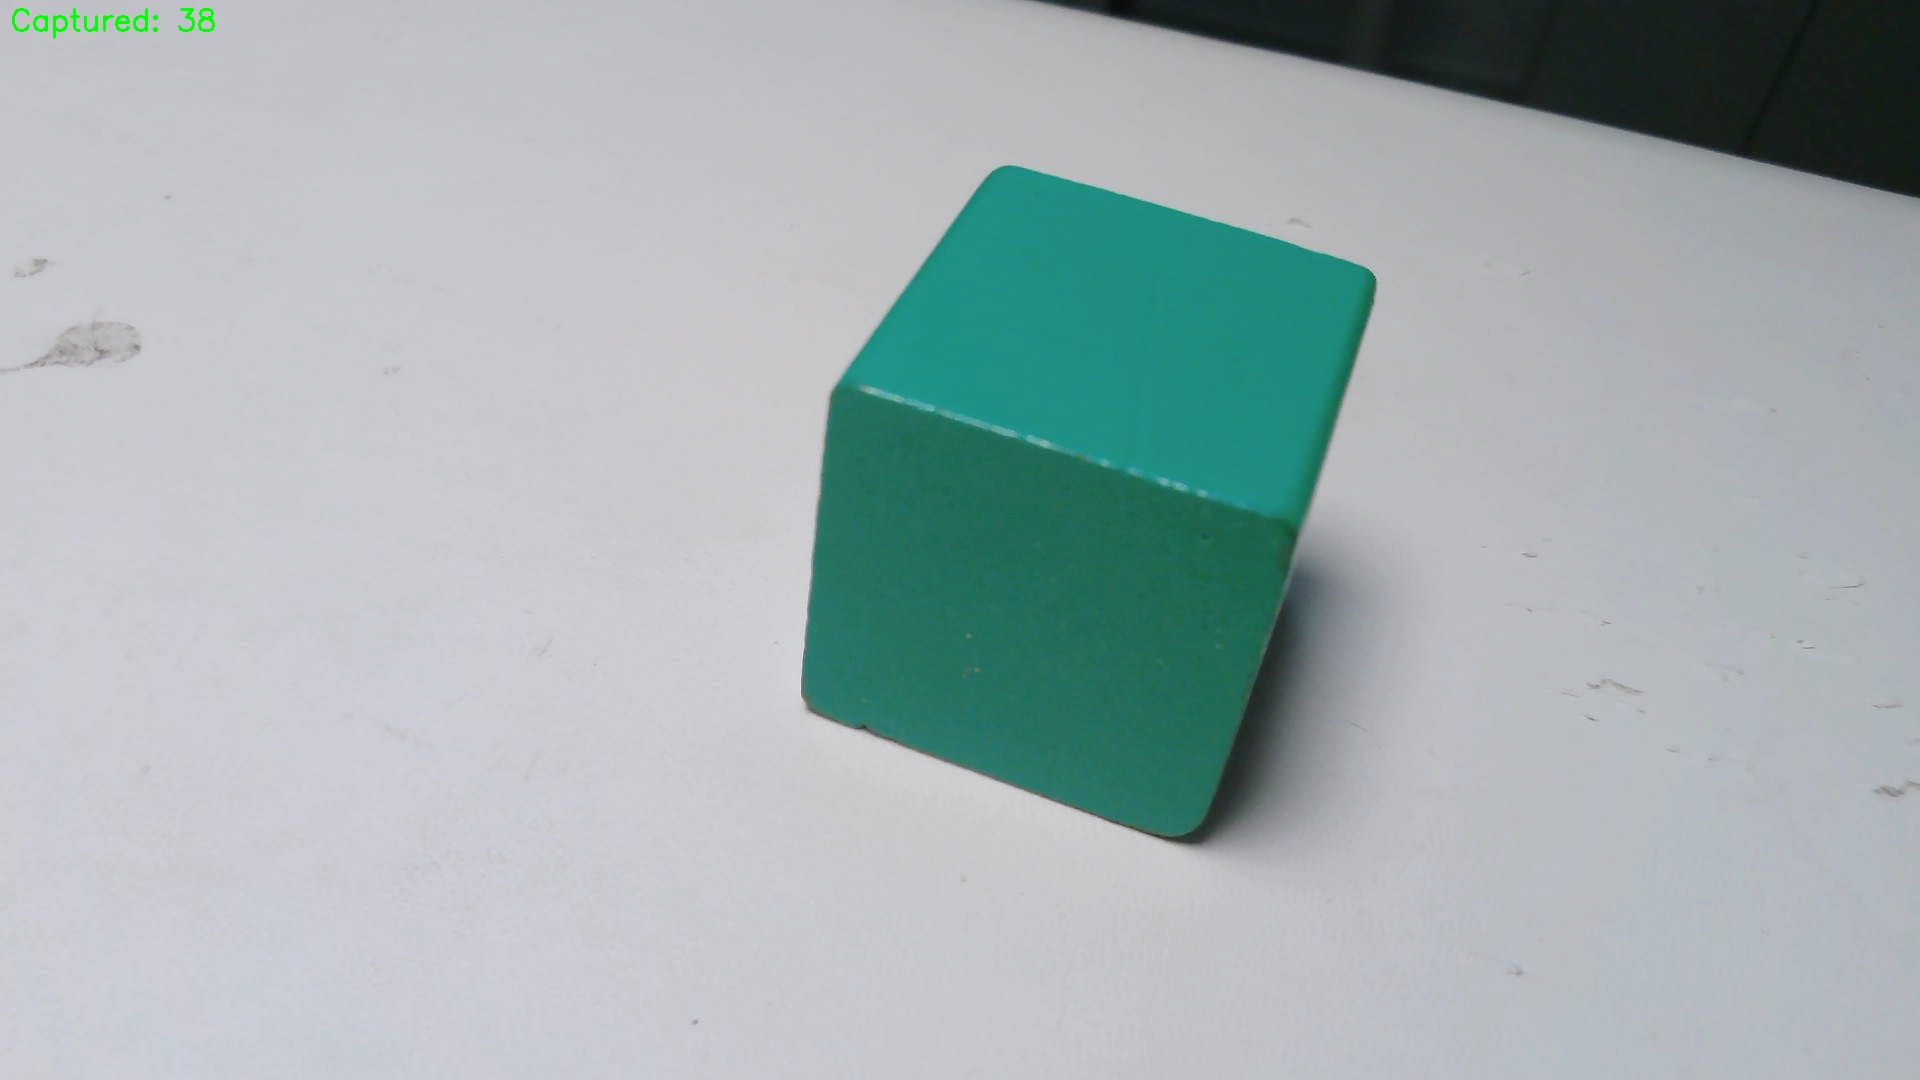green: (808, 166, 1385, 840)
